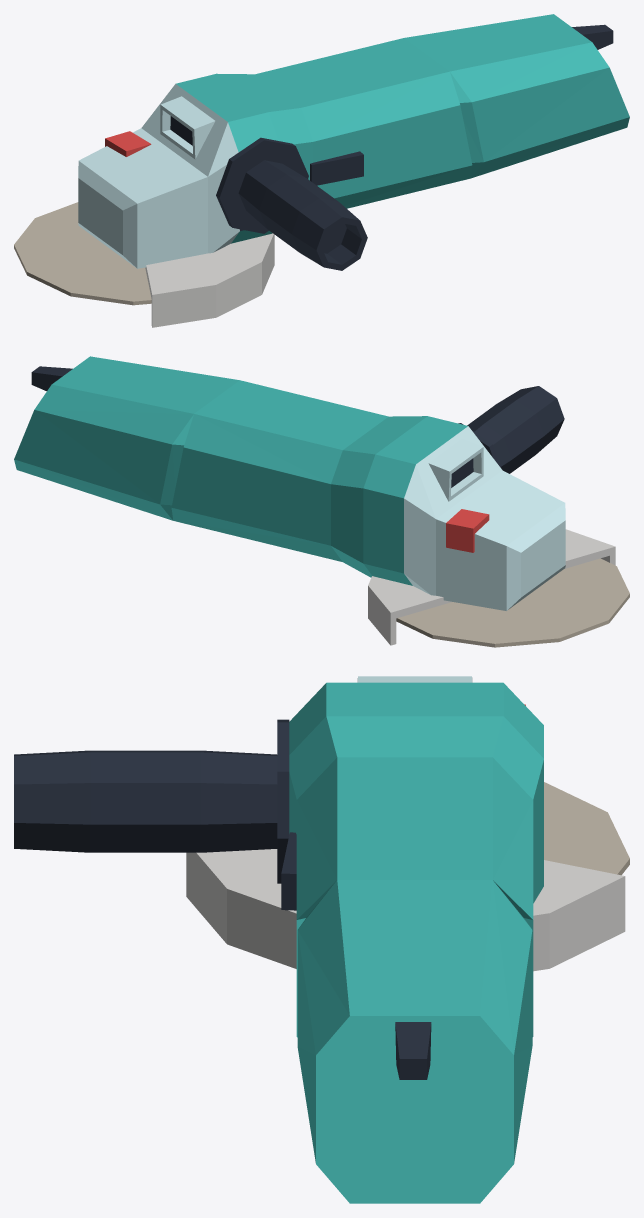
The model's file is emery.glb.
3 renders of one model, top to bottom at view 1: azimuth 30°, elevation 25°; view 2: azimuth 150°, elevation 25°; view 3: azimuth 270°, elevation 25°, orthographic. The views are drawn at different scales.
Visible parts, largest first — view 1: Box006_Material #32_0; view 2: Box006_Material #32_0; view 3: Box006_Material #32_0.
Part boxes in pixels (x1,y1,x2,y2): Box006_Material #32_0: (14,14,629,327); Box006_Material #32_0: (14,356,629,647); Box006_Material #32_0: (14,676,629,1203).
Size of the model in its own units: 31.73 by 8 by 17.33.
Materials: 1 (1 with a texture image).
